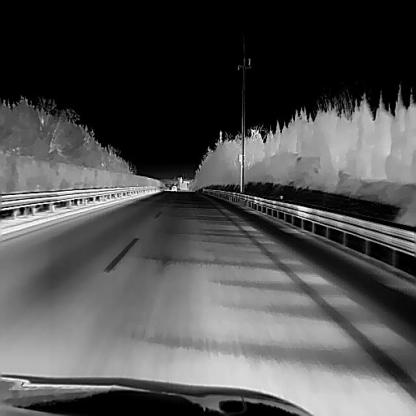car: (170, 184, 177, 191)
